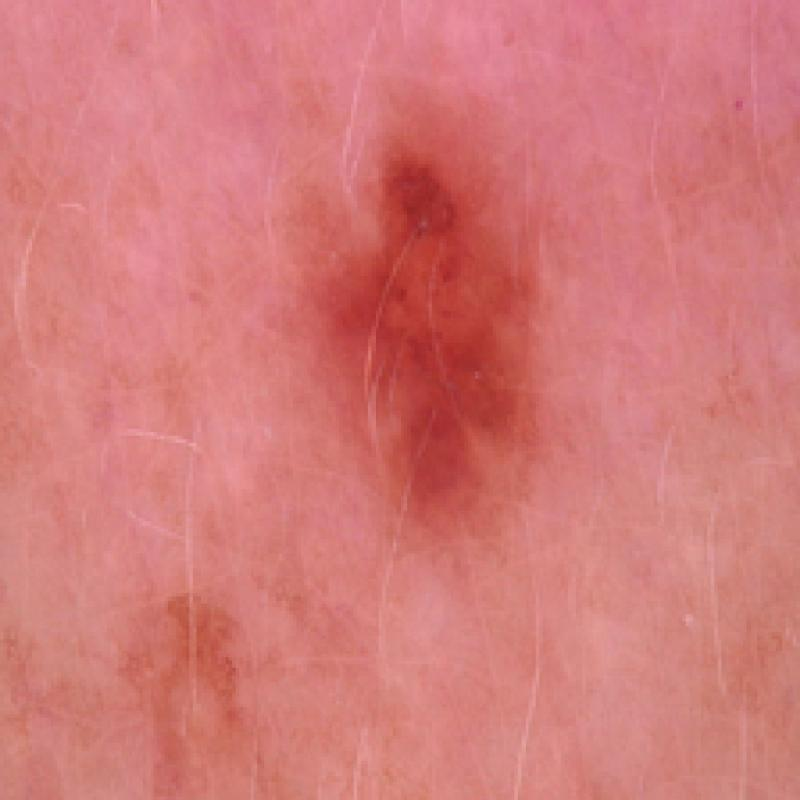benign: (268, 120, 628, 602)
